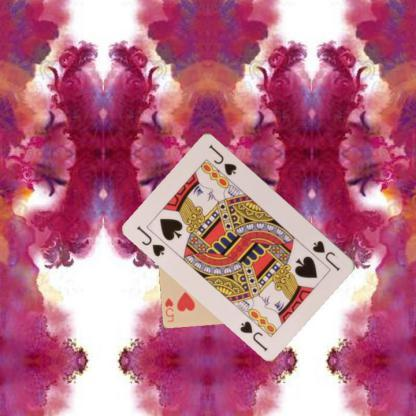Js: (134, 223, 167, 258), (310, 238, 342, 272)
